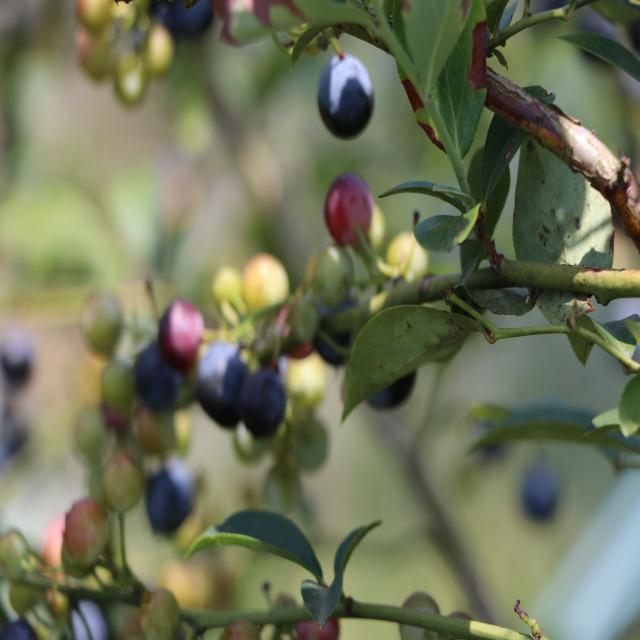blueberry: (316, 53, 375, 139), (198, 348, 252, 439), (242, 366, 288, 438), (146, 463, 192, 532), (139, 344, 184, 408)
blueberry-halfripe: (322, 167, 373, 237), (65, 502, 113, 567), (158, 295, 203, 364)
blueberry-unripe: (386, 227, 433, 288), (244, 252, 290, 312), (313, 243, 352, 310), (104, 453, 146, 515), (138, 586, 180, 640), (288, 290, 321, 342)
